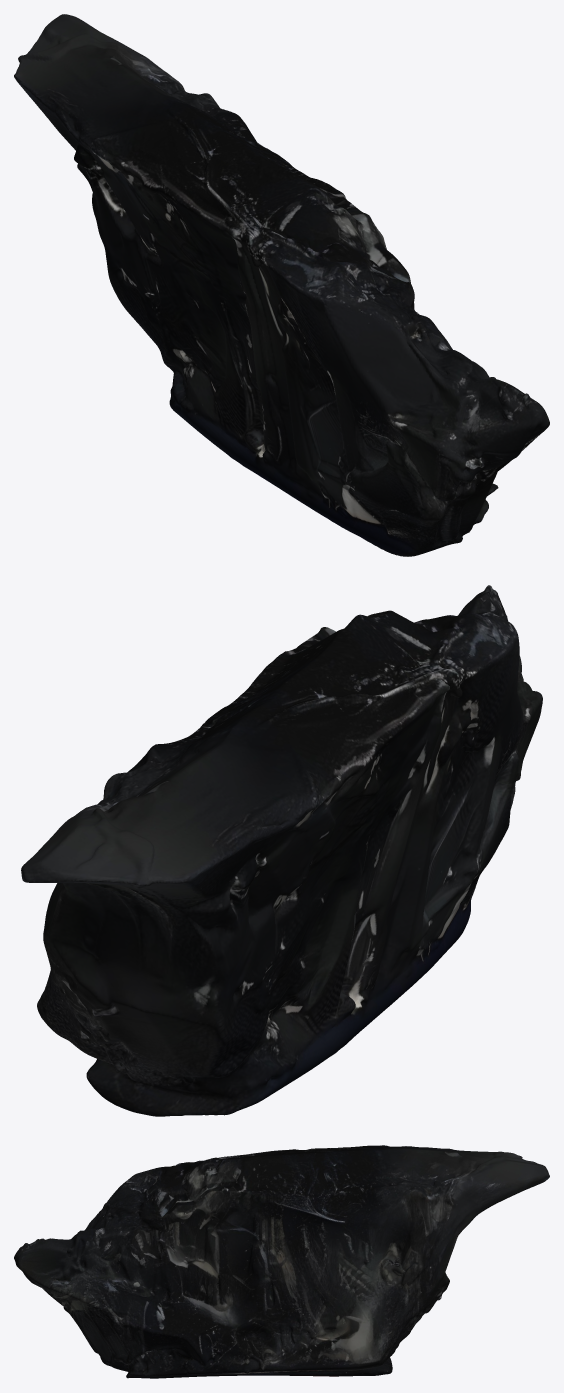
Rendered from Batuan Bara 3D Model.glb.
3 renders of one model, top to bottom at view 1: azimuth 30°, elevation 25°; view 2: azimuth 150°, elevation 25°; view 3: azimuth 270°, elevation 25°, orthographic. The views are drawn at different scales.
Parts seen in each view (by area): view 1: tripo_node_4f454280-15f4-407c-803f-86dfb8fecf10; view 2: tripo_node_4f454280-15f4-407c-803f-86dfb8fecf10; view 3: tripo_node_4f454280-15f4-407c-803f-86dfb8fecf10.
Part boxes in pixels (x1,y1,x2,y2): tripo_node_4f454280-15f4-407c-803f-86dfb8fecf10: [14, 14, 549, 556]; tripo_node_4f454280-15f4-407c-803f-86dfb8fecf10: [21, 585, 542, 1116]; tripo_node_4f454280-15f4-407c-803f-86dfb8fecf10: [14, 1145, 549, 1378].
Bounding box in the file's own units: 0.325 × 0.4097 × 1.
Materials: 1 (1 with a texture image).
